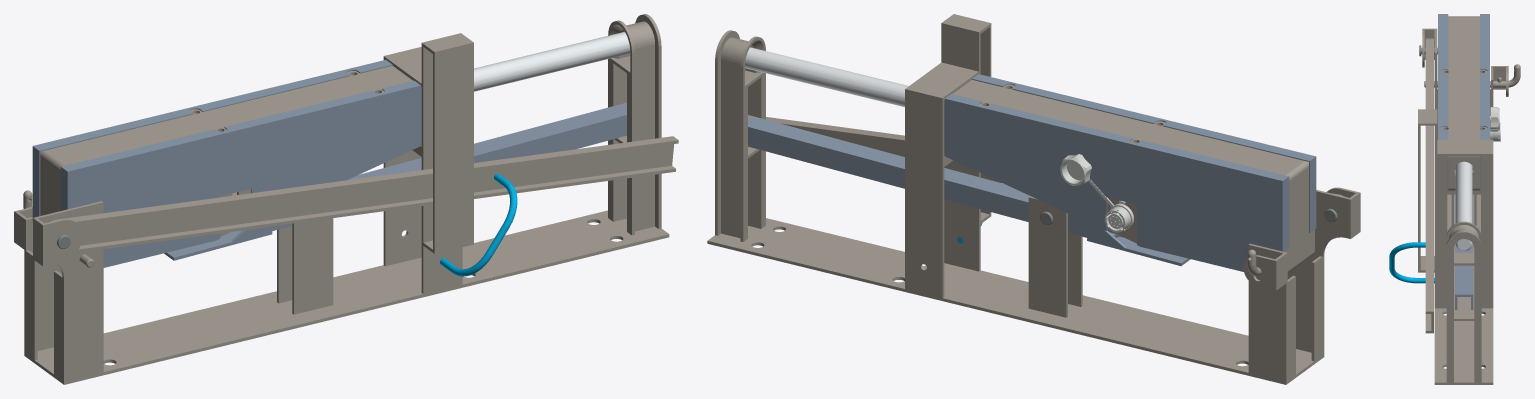
The model's file is ice-lock.glb.
The picture shows the model from 3 angles, left to right: view 1: azimuth 30°, elevation 25°; view 2: azimuth 150°, elevation 25°; view 3: azimuth 270°, elevation 25°; orthographic projection. The views are drawn at different scales.
Parts seen in each view (by area): view 1: Ά¸˳Ű㫲014626-1-, 38ac2bbf-95f3-405b-8dbb-8b30456ed27d_32ad7ab9-398f-426f-b03f, ½ӵظɭ2015626-6-, µ綯Ά¸˹̶¨°㫲014626-3-, µ綯Ά¸̑ӳ¤¸ɭ2014626-2-2-, Áã¼þ2^±£»¤Ëø×°ÖÃ-2014626-; view 2: Ά¸˳Ű㫲014626-1-, 38ac2bbf-95f3-405b-8dbb-8b30456ed27d_32ad7ab9-398f-426f-b03f, µ綯Ά¸˹̶¨°㫲014626-3-, µ綯Ά¸̑ӳ¤¸ɭ2014626-2-2-, ½ӵظɭ2015626-6-, º½¿ք¸²捷wp-9-16-; view 3: Ά¸˳Ű㫲014626-1-, µ綯Ά¸˹̶¨°㫲014626-3-, 38ac2bbf-95f3-405b-8dbb-8b30456ed27d_32ad7ab9-398f-426f-b03f, ½ӵظɭ2015626-6-, µ綯Ά¸̑ӳ¤¸ɭ2014626-2-2-, Áã¼þ2^±£»¤Ëø×°ÖÃ-2014626-, º½¿ք¸²捷wp-9-16-, кסB8X100-2014626-10-.
Boxes of the visible parts, bbox=[...] form: Ά¸˳Ű㫲014626-1-: bbox=[14, 14, 669, 384]; 38ac2bbf-95f3-405b-8dbb-8b30456ed27d_32ad7ab9-398f-426f-b03f: bbox=[32, 60, 626, 267]; ½ӵظɭ2015626-6-: bbox=[50, 136, 678, 252]; µ綯Ά¸˹̶¨°㫲014626-3-: bbox=[40, 66, 412, 264]; µ綯Ά¸̑ӳ¤¸ɭ2014626-2-2-: bbox=[474, 31, 630, 91]; Áã¼þ2^±£»¤Ëø×°ÖÃ-2014626-: bbox=[440, 173, 517, 276]; Ά¸˳Ű㫲014626-1-: bbox=[707, 14, 1360, 384]; 38ac2bbf-95f3-405b-8dbb-8b30456ed27d_32ad7ab9-398f-426f-b03f: bbox=[748, 74, 1316, 271]; µ綯Ά¸˹̶¨°㫲014626-3-: bbox=[952, 80, 1314, 272]; µ綯Ά¸̑ӳ¤¸ɭ2014626-2-2-: bbox=[745, 47, 908, 106]; ½ӵظɭ2015626-6-: bbox=[766, 117, 1343, 196]; º½¿ք¸²捷wp-9-16-: bbox=[1060, 154, 1133, 232]; Ά¸˳Ű㫲014626-1-: bbox=[1418, 28, 1508, 384]; µ綯Ά¸˹̶¨°㫲014626-3-: bbox=[1441, 16, 1487, 190]; 38ac2bbf-95f3-405b-8dbb-8b30456ed27d_32ad7ab9-398f-426f-b03f: bbox=[1438, 14, 1489, 309]; ½ӵظɭ2015626-6-: bbox=[1425, 38, 1433, 333]; µ綯Ά¸̑ӳ¤¸ɭ2014626-2-2-: bbox=[1455, 161, 1472, 250]; Áã¼þ2^±£»¤Ëø×°ÖÃ-2014626-: bbox=[1389, 242, 1434, 283]; º½¿ք¸²捷wp-9-16-: bbox=[1490, 107, 1500, 141]; кסB8X100-2014626-10-: bbox=[1424, 64, 1520, 87].
Bounding box in the file's own units: 648 × 246 × 157.
